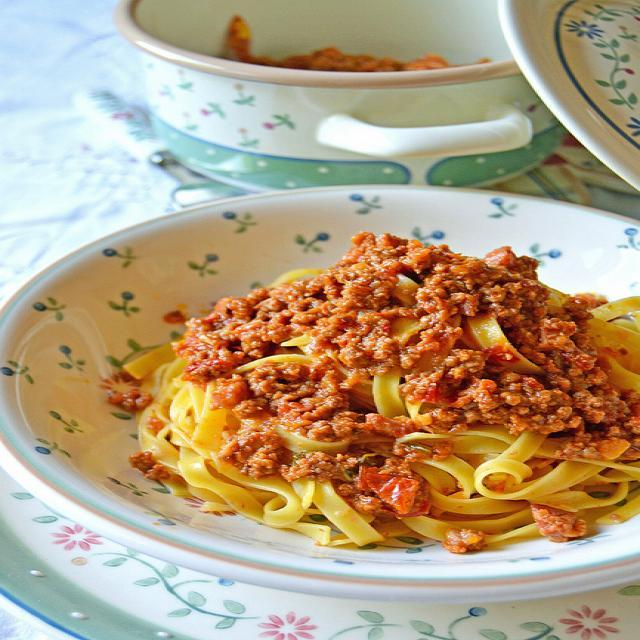Pasta al ragu: (91, 202, 640, 569)
